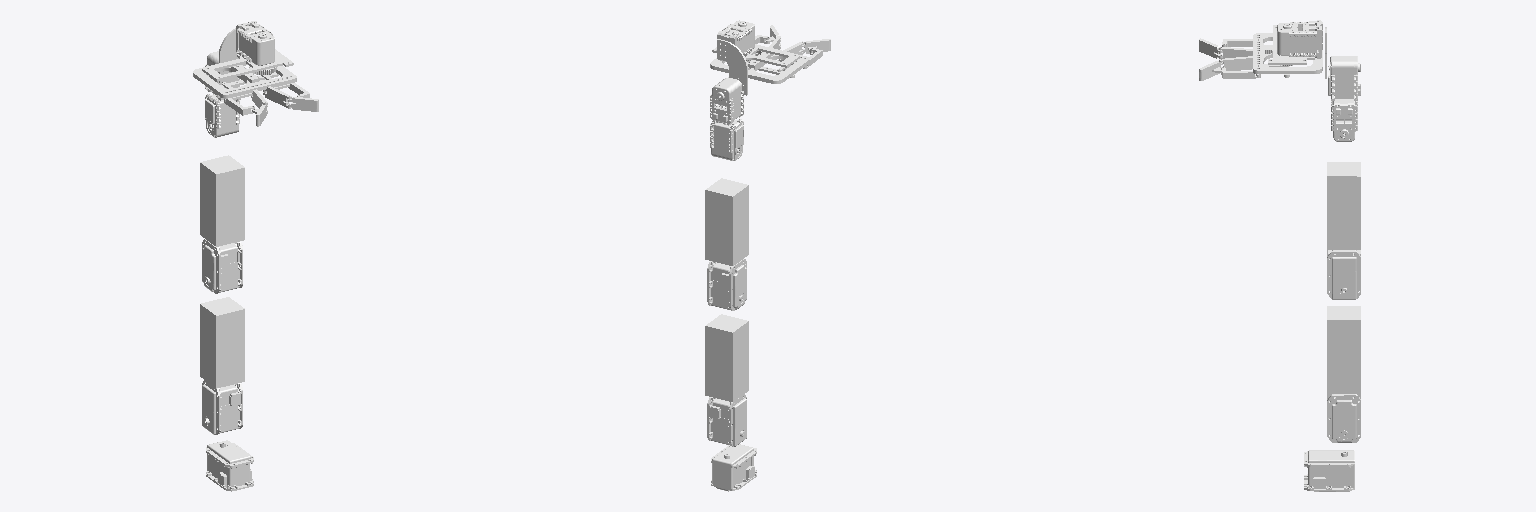
URDF robot description (mobile_manipulator):
<?xml version="1.0" ?>
<!-- =================================================================================== -->
<!-- |    This document was autogenerated by xacro from mobile_manipulator5dof.xacro   | -->
<!-- |    EDITING THIS FILE BY HAND IS NOT RECOMMENDED                                 | -->
<!-- =================================================================================== -->
<robot name="mobile_manipulator" xmlns:xacro="http://www.ros.org/wiki/xacro">
  <material name="white">
    <color rgba="1 1 1 1"/>
  </material>
  <!-- MACROS -->
  <!-- Macros of the J plate -->
  <!-- Macros of the gripper -->
  <!-- LINKS -->
  <link name="bot">
    <inertial>
      <origin rpy="0 0 0 " xyz="0 0 0"/>
      <mass value="0.140"/>
      <inertia ixx="0.000050799110" ixy="0.0" ixz="0.0" iyy="0.00002857215" iyz="0.00000051457" izz="0.000043394"/>
    </inertial>
    <visual>
      <origin rpy="0 0 0 " xyz="0 0 0"/>
      <geometry>
        <mesh filename="package://mobile_manipulator/meshes/bot.stl" scale="0.001 0.001 0.001"/>
      </geometry>
      <material name="white"/>
    </visual>
    <collision>
      <origin rpy="0 0 0" xyz="0 0 0"/>
      <geometry>
        <mesh filename="package://mobile_manipulator/meshes/bot.stl" scale="0.001 0.001 0.001"/>
      </geometry>
    </collision>
  </link>
  <link name="shoulder_yaw_motor">
    <inertial>
      <origin rpy="0 0 0 " xyz="0 0 0"/>
      <mass value="0.140"/>
      <inertia ixx="0.000050799110" ixy="0.0" ixz="0.0" iyy="0.00002857215" iyz="0.00000051457" izz="0.000043394"/>
    </inertial>
    <visual>
      <origin rpy="0 0 0 " xyz="0 0.188 0.2349"/>
      <geometry>
        <mesh filename="package://mobile_manipulator/meshes/dynamixel_x64series.stl" scale="0.001 0.001 0.001"/>
      </geometry>
      <material name="white"/>
    </visual>
    <collision>
      <origin rpy="0 0 0" xyz="0 0.188 0.2349"/>
      <geometry>
        <box size="0.041 0.0402 0.0611"/>
      </geometry>
    </collision>
  </link>
  <link name="shoulder_bracket">
    <inertial>
      <origin rpy="0 3.14 0 " xyz="0 0 0.025"/>
      <mass value="0.00712"/>
      <inertia ixx="0.00000174511" ixy="0.0" ixz="0.0" iyy="0.00000379922" iyz="0.0" izz="0.00000357521"/>
    </inertial>
    <visual>
      <origin rpy="0 3.14 0 " xyz="0 0 0"/>
      <geometry>
        <mesh filename="package://mobile_manipulator/meshes/FR05-H101K.stl" scale="0.001 0.001 0.001"/>
      </geometry>
      <material name="white"/>
    </visual>
    <collision>
      <origin rpy="0 3.14 0 " xyz="0 0 0"/>
      <geometry>
        <mesh filename="package://mobile_manipulator/meshes/FR05-H101K.stl" scale="0.001 0.001 0.001"/>
      </geometry>
    </collision>
  </link>
  <link name="shoulder_pitch_motor">
    <inertial>
      <origin rpy="1.57 -3.14 1.57" xyz="0 0 0"/>
      <mass value="0.140"/>
      <inertia ixx="0.000050799110" ixy="0.0" ixz="0.0" iyy="0.00002857215" iyz="0.00000051457" izz="0.000043394"/>
    </inertial>
    <visual>
      <origin rpy="1.57 -3.14 1.57" xyz="0 0 0"/>
      <geometry>
        <mesh filename="package://mobile_manipulator/meshes/dynamixel_x64series.stl" scale="0.001 0.001 0.001"/>
      </geometry>
      <material name="white"/>
    </visual>
    <collision>
      <origin rpy="1.57 -3.14 1.57" xyz="0 0 0"/>
      <geometry>
        <box size="0.041 0.0602 0.1480"/>
      </geometry>
    </collision>
  </link>
  <link name="biscep">
    <inertial>
      <origin rpy="0 0 0" xyz="0 0 0.099"/>
      <mass value="0.00048"/>
      <inertia ixx="0.000050799110" ixy="0.0" ixz="0.0" iyy="0.00002857215" iyz="0.00000051457" izz="0.000043394"/>
    </inertial>
    <visual>
      <origin rpy="0 0 0" xyz="0 0 0.099"/>
      <geometry>
        <box size="0.04 0.04 0.096"/>
      </geometry>
      <material name="white"/>
    </visual>
    <collision>
      <origin rpy="0 0 0" xyz="0 0 0.099"/>
      <geometry>
        <box size="0.04 0.04 0.096"/>
      </geometry>
    </collision>
  </link>
  <link name="elbow_bracket">
    <inertial>
      <origin rpy="0 3.14 0" xyz="0 0 0.148"/>
      <mass value="0.00712"/>
      <inertia ixx="0.00000174511" ixy="0.0" ixz="0.0" iyy="0.00000379922" iyz="0.0" izz="0.00000357521"/>
    </inertial>
    <visual>
      <origin rpy="0 3.14 0" xyz="0 0 0.148"/>
      <geometry>
        <mesh filename="package://mobile_manipulator/meshes/FR05-H101K.stl" scale="0.001 0.001 0.001"/>
      </geometry>
      <material name="white"/>
    </visual>
    <collision>
      <origin rpy="0 3.14 0" xyz="0 0 0.148"/>
      <geometry>
        <mesh filename="package://mobile_manipulator/meshes/FR05-H101K.stl" scale="0.001 0.001 0.001"/>
      </geometry>
    </collision>
  </link>
  <link name="elbow_motor">
    <inertial>
      <origin rpy="1.57 0 0" xyz="0 0 0"/>
      <mass value="0.140"/>
      <inertia ixx="0.000050799110" ixy="0.0" ixz="0.0" iyy="0.00002857215" iyz="0.00000051457" izz="0.000043394"/>
    </inertial>
    <visual>
      <origin rpy="1.57 3.14 -1.57" xyz="0 0 0"/>
      <geometry>
        <mesh filename="package://mobile_manipulator/meshes/dynamixel_x64series.stl" scale="0.001 0.001 0.001"/>
      </geometry>
      <material name="white"/>
    </visual>
    <collision>
      <origin rpy="1.57 3.14 -1.57" xyz="0 0 0"/>
      <geometry>
        <box size="0.041 0.0402 0.0611"/>
      </geometry>
    </collision>
  </link>
  <link name="forearm">
    <inertial>
      <origin rpy="0 0 0" xyz="0 0 0.1"/>
      <mass value="0.00048"/>
      <inertia ixx="0.000050799110" ixy="0.0" ixz="0.0" iyy="0.00002857215" iyz="0.00000051457" izz="0.000043394"/>
    </inertial>
    <visual>
      <origin rpy="0 0 0" xyz="0 0 0.1"/>
      <geometry>
        <box size="0.04 0.04 0.096"/>
      </geometry>
      <material name="white"/>
    </visual>
    <collision>
      <origin rpy="0 0 0" xyz="0 0 0.1"/>
      <geometry>
        <box size="0.04 0.04 0.096"/>
      </geometry>
    </collision>
  </link>
  <link name="wrist_bracket">
    <inertial>
      <origin rpy="1.57 0 1.57" xyz="0 0 0.202"/>
      <mass value="0.00712"/>
      <inertia ixx="0.00000174511" ixy="0.0" ixz="0.0" iyy="0.00000379922" iyz="0.0" izz="0.00000357521"/>
    </inertial>
    <visual>
      <origin rpy="1.57 0 1.57" xyz="0 0 0.202"/>
      <geometry>
        <mesh filename="package://mobile_manipulator/meshes/F4.stl" scale="0.001 0.001 0.001"/>
      </geometry>
      <material name="white"/>
    </visual>
    <collision>
      <origin rpy="1.57 0 1.57" xyz="0 0 0.202"/>
      <geometry>
        <mesh filename="package://mobile_manipulator/meshes/F4.stl" scale="0.001 0.001 0.001"/>
      </geometry>
    </collision>
  </link>
  <link name="wrist_pitch_motor">
    <inertial>
      <origin rpy="-1.57 0 -1.57" xyz="0 0 0"/>
      <mass value="0.05573"/>
      <inertia ixx="0.00001611154" ixy="0.00000001397" ixz="0.0" iyy="0.00000888743" iyz="0.00000015948" izz="0.00001354172"/>
    </inertial>
    <visual>
      <origin rpy="-1.57 0 -1.57" xyz="0 0 0"/>
      <geometry>
        <mesh filename="package://mobile_manipulator/meshes/AX-12_18A - dynamixel_AXseries-1.stl" scale="0.001 0.001 0.001"/>
      </geometry>
      <material name="white"/>
    </visual>
    <collision>
      <origin rpy="-1.57 0 -1.57" xyz="0 0 0"/>
      <geometry>
        <box size="0.032 0.04 0.05"/>
      </geometry>
    </collision>
  </link>
  <link name="wrist_roll_motor">
    <inertial>
      <origin rpy="-1.57 3.14 0" xyz="0 0 0.078"/>
      <mass value="0.05573"/>
      <inertia ixx="0.00001611154" ixy="0.00000001397" ixz="0.0" iyy="0.00000888743" iyz="0.00000015948" izz="0.00001354172"/>
    </inertial>
    <visual>
      <origin rpy="-1.57 3.14 0" xyz="0 0 0.078"/>
      <geometry>
        <mesh filename="package://mobile_manipulator/meshes/AX-12_18A - dynamixel_AXseries-1.stl" scale="0.001 0.001 0.001"/>
      </geometry>
      <material name="white"/>
    </visual>
    <collision>
      <origin rpy="-1.57 3.14 0" xyz="0 0 0.078"/>
      <geometry>
        <box size="0.032 0.04 0.05"/>
      </geometry>
    </collision>
  </link>
  <link name="roll_j_plate">
    <inertial>
      <origin rpy="0 0 0" xyz="0 0 0"/>
      <mass value="0.140"/>
      <inertia ixx="0.000050799110" ixy="0.0" ixz="0.0" iyy="0.00002857215" iyz="0.00000051457" izz="0.000043394"/>
    </inertial>
    <visual>
      <origin rpy="-1.57 -1.57 0" xyz="-0.025 0 -0.052"/>
      <geometry>
        <mesh filename="package://mobile_manipulator/meshes/gripper_Centering.stl" scale="0.001 0.001 0.001"/>
      </geometry>
      <material name="white"/>
    </visual>
    <collision>
      <origin rpy="-1.57 -1.57 0" xyz="-0.025 0 -0.052"/>
      <geometry>
        <mesh filename="package://mobile_manipulator/meshes/gripper_Centering.stl" scale="0.001 0.001 0.001"/>
      </geometry>
    </collision>
  </link>
  <link name="gripper">
    <inertial>
      <origin rpy="0 0 0" xyz="0 0 0"/>
      <mass value="0.140"/>
      <inertia ixx="0.000050799110" ixy="0.0" ixz="0.0" iyy="0.00002857215" iyz="0.00000051457" izz="0.000043394"/>
    </inertial>
    <visual>
      <origin rpy="0 3.14 0" xyz="0.008 0.07 -0.009"/>
      <geometry>
        <mesh filename="package://mobile_manipulator/meshes/gripper.stl" scale="0.001 0.001 0.001"/>
      </geometry>
      <material name="white"/>
    </visual>
    <collision>
      <origin rpy="0 3.14 0" xyz="0.008 0.07 -0.009"/>
      <geometry>
        <mesh filename="package://mobile_manipulator/meshes/gripper.stl" scale="0.001 0.001 0.001"/>
      </geometry>
    </collision>
  </link>
  <joint name="bot_joint" type="fixed">
    <parent link="bot"/>
    <child link="shoulder_yaw_motor"/>
  </joint>
  <joint name="shoulder_yaw" type="revolute">
    <origin rpy="0 0 3.14" xyz="0 0.188 0.2577"/>
    <parent link="shoulder_yaw_motor"/>
    <child link="shoulder_bracket"/>
    <axis xyz="0 0 1"/>
    <limit effort="30" lower="-3.0357" upper="3.24426" velocity="1.0"/>
  </joint>
  <joint name="shoulder_pitch" type="revolute">
    <origin rpy="0 0 0" xyz="0 0 0.035"/>
    <parent link="shoulder_bracket"/>
    <child link="shoulder_pitch_motor"/>
    <axis xyz="1 0 0"/>
    <limit effort="30" lower="-1.973232422" upper="1.916503906" velocity="1.0"/>
  </joint>
  <joint name="s1_l2" type="fixed">
    <parent link="shoulder_pitch_motor"/>
    <child link="biscep"/>
  </joint>
  <joint name="l2_l2B" type="fixed">
    <parent link="biscep"/>
    <child link="elbow_bracket"/>
  </joint>
  <joint name="elbow" type="revolute">
    <origin rpy="0 0 0" xyz="0 0 0.186"/>
    <parent link="elbow_bracket"/>
    <child link="elbow_motor"/>
    <axis xyz="1 0 0"/>
    <limit effort="30" lower="-1.99" upper="1.971699219" velocity="1.0"/>
  </joint>
  <joint name="e_l3" type="fixed">
    <parent link="elbow_motor"/>
    <child link="forearm"/>
  </joint>
  <joint name="l3_l3B" type="fixed">
    <parent link="forearm"/>
    <child link="wrist_bracket"/>
  </joint>
  <joint name="wrist_pitch" type="revolute">
    <origin rpy="0 0 0" xyz="0 0 0.202"/>
    <parent link="wrist_bracket"/>
    <child link="wrist_pitch_motor"/>
    <axis xyz="1 0 0"/>
    <limit effort="30" lower="-2.36344086" upper="2.368556533" velocity="1.0"/>
  </joint>
  <joint name="WP_WR" type="fixed">
    <parent link="wrist_pitch_motor"/>
    <child link="wrist_roll_motor"/>
  </joint>
  <joint name="wrist_roll" type="revolute">
    <origin rpy="0 3.14 0" xyz="0 0.02 0.082"/>
    <parent link="wrist_roll_motor"/>
    <child link="roll_j_plate"/>
    <axis xyz="0 1 0"/>
    <limit effort="30" lower="-2" upper="+2" velocity="1.0"/>
  </joint>
  <joint name="roll_plate_gripper" type="fixed">
    <parent link="roll_j_plate"/>
    <child link="gripper"/>
  </joint>
</robot>

--- Facts derived from the render (not from the file) ---
Views: 3 orthographic renders of the robot side by side, from view 1: azimuth 30°, elevation 25°; view 2: azimuth 150°, elevation 25°; view 3: azimuth 270°, elevation 25°.
Robot: mobile_manipulator — 13 links, 12 joints (5 revolute, 7 fixed); root link bot; default pose: every joint at zero.
Visible links, largest first — view 1: gripper, biscep, forearm, shoulder_yaw_motor, elbow_motor, shoulder_pitch_motor, wrist_pitch_motor; view 2: gripper, biscep, forearm, elbow_motor, shoulder_pitch_motor, shoulder_yaw_motor, wrist_roll_motor, wrist_pitch_motor, roll_j_plate; view 3: gripper, biscep, forearm, shoulder_yaw_motor, elbow_motor, shoulder_pitch_motor, wrist_roll_motor, wrist_pitch_motor.
Boxes of the visible links, left/top/right/bottom form: gripper: left=193, top=21, right=318, bottom=126; biscep: left=200, top=297, right=244, bottom=388; forearm: left=200, top=155, right=244, bottom=246; shoulder_yaw_motor: left=206, top=440, right=253, bottom=491; elbow_motor: left=202, top=239, right=242, bottom=293; shoulder_pitch_motor: left=202, top=380, right=242, bottom=434; wrist_pitch_motor: left=205, top=94, right=239, bottom=137; gripper: left=710, top=20, right=830, bottom=83; biscep: left=705, top=314, right=748, bottom=401; forearm: left=705, top=178, right=748, bottom=265; elbow_motor: left=707, top=259, right=746, bottom=310; shoulder_pitch_motor: left=707, top=394, right=746, bottom=446; shoulder_yaw_motor: left=711, top=444, right=756, bottom=491; wrist_roll_motor: left=710, top=77, right=743, bottom=125; wrist_pitch_motor: left=710, top=119, right=743, bottom=160; roll_j_plate: left=717, top=39, right=747, bottom=95; gripper: left=1199, top=20, right=1322, bottom=80; biscep: left=1327, top=306, right=1360, bottom=393; forearm: left=1327, top=162, right=1360, bottom=249; shoulder_yaw_motor: left=1304, top=450, right=1354, bottom=491; elbow_motor: left=1327, top=250, right=1360, bottom=299; shoulder_pitch_motor: left=1327, top=394, right=1360, bottom=442; wrist_roll_motor: left=1328, top=56, right=1360, bottom=100; wrist_pitch_motor: left=1331, top=99, right=1357, bottom=141.
Size in the robot's own frame: 0.1068 by 0.1918 by 0.609 metres.
Meshes: 7 distinct files referenced, 7 mesh visuals loaded (4 binary STL); not drawn: 4 (reference not matched to a file when rendering).